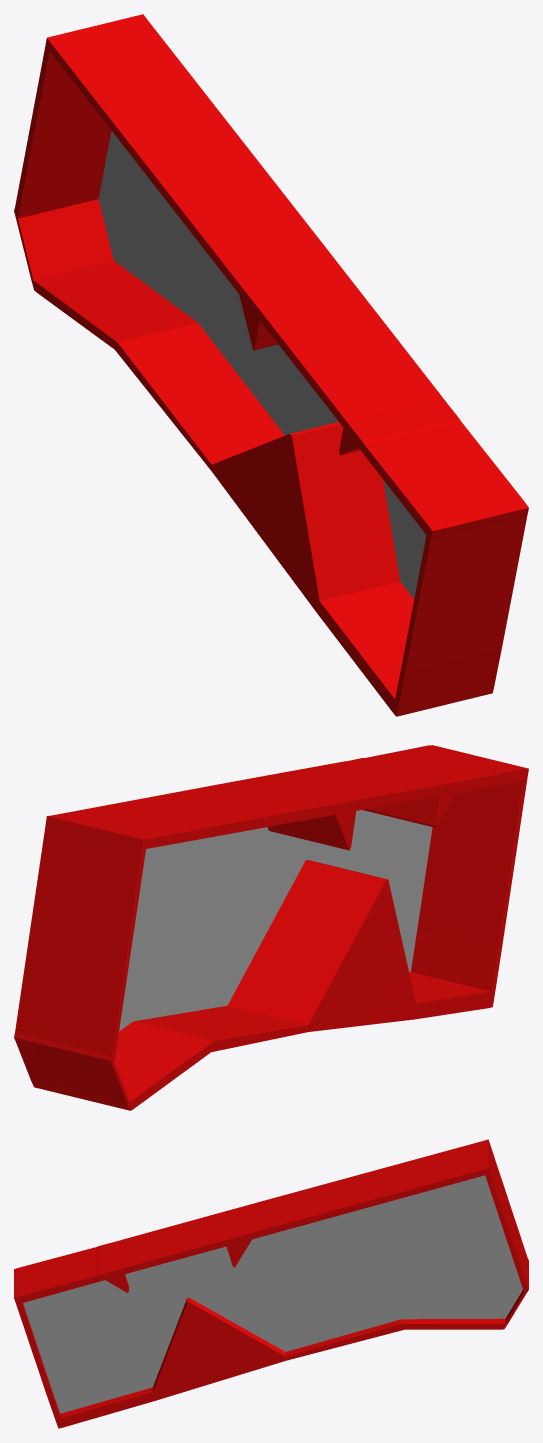
The model's file is Level_9_Art_Redo.fbx.
The picture shows the model from 3 angles, top to bottom: view 1: azimuth 30°, elevation 25°; view 2: azimuth 150°, elevation 25°; view 3: azimuth 270°, elevation 25°; orthographic projection. The views are drawn at different scales.
Parts seen in each view (by area): view 1: polySurface1, polySurface2; view 2: polySurface1, polySurface2; view 3: polySurface2, polySurface1.
Part boxes in pixels (<box>): polySurface1: <box>14,14,528,716</box>; polySurface2: <box>98,131,426,599</box>; polySurface1: <box>14,745,528,1110</box>; polySurface2: <box>119,810,432,1031</box>; polySurface2: <box>23,1175,522,1413</box>; polySurface1: <box>14,1139,528,1428</box>.
Bounding box in the file's own units: 983 × 4124 × 7391.
